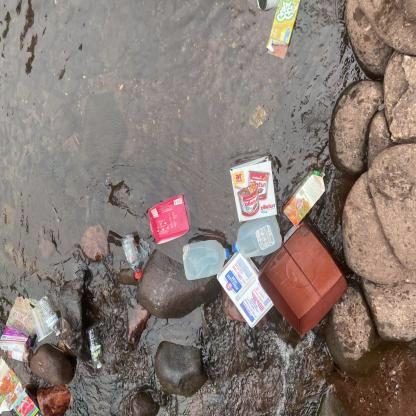Plastic: (214, 245, 281, 330), (0, 291, 64, 355), (230, 207, 287, 262), (180, 235, 231, 284), (120, 232, 145, 282), (86, 322, 107, 371)
